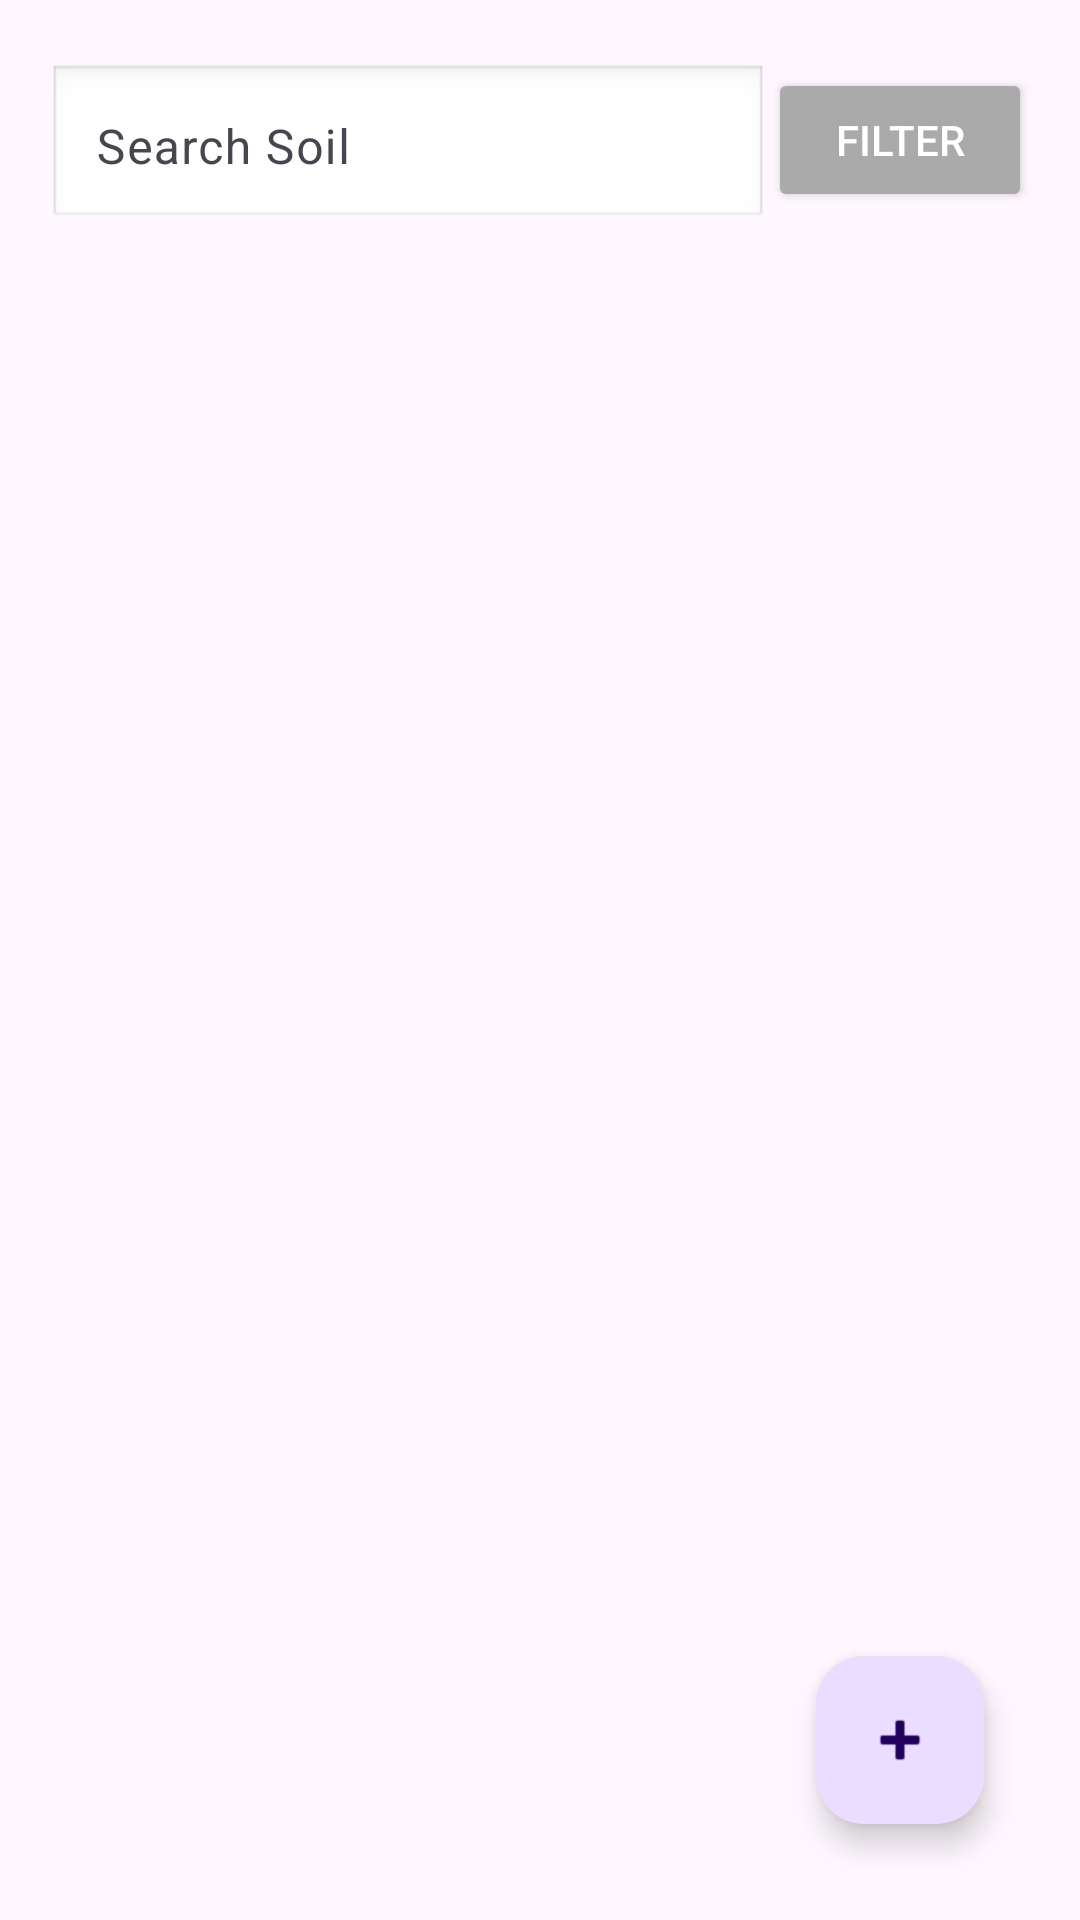

Icon click points for this 1080 x 1920 phone screenshot, format [x,y]:
Add new soil: [900,1740]
